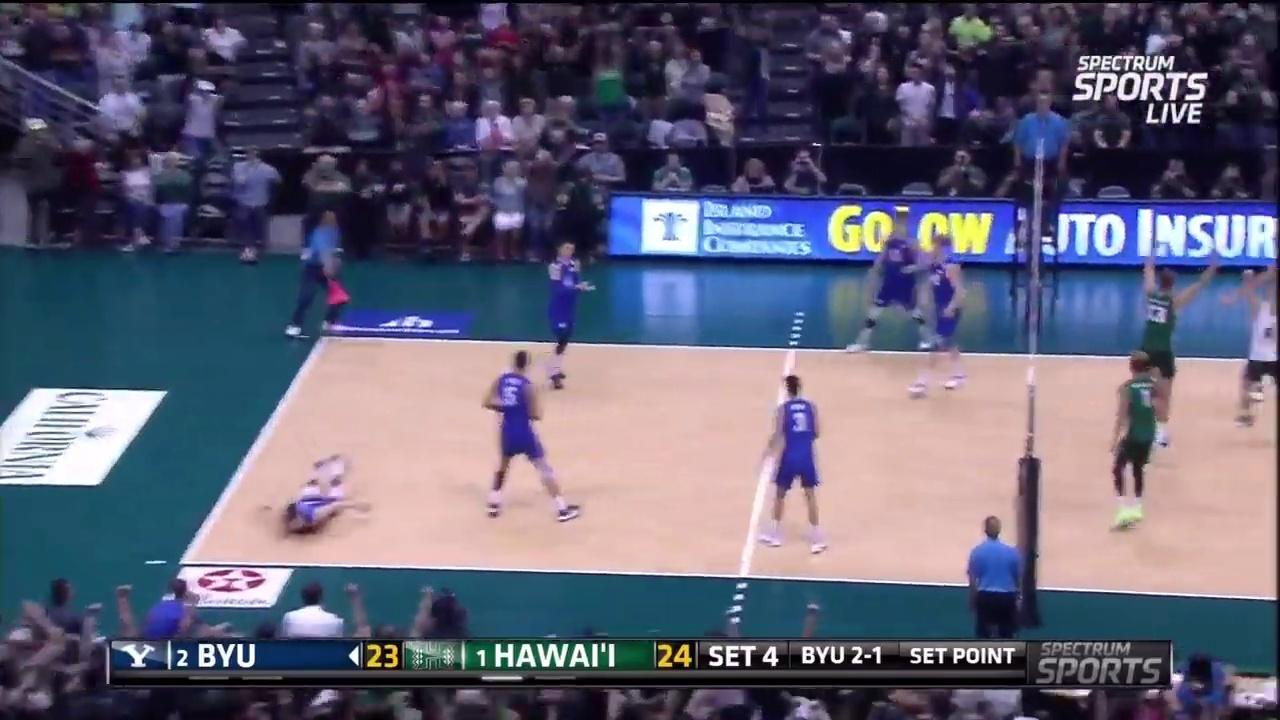player: (479, 357, 575, 520), (1125, 256, 1202, 451), (754, 376, 831, 552), (900, 231, 977, 404), (851, 211, 926, 357), (1109, 356, 1172, 528), (265, 449, 372, 545), (541, 233, 595, 388), (1234, 265, 1280, 436)
refree: (957, 508, 1033, 643), (1010, 94, 1074, 232), (289, 210, 349, 338)
